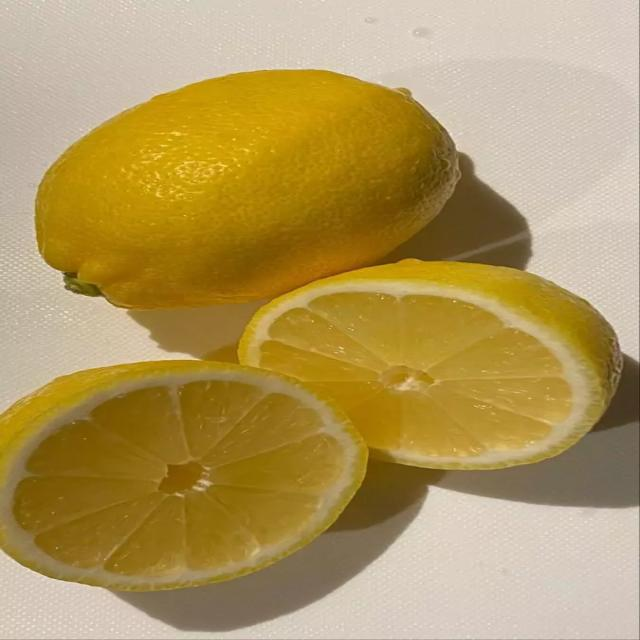lemon: (37, 70, 458, 308), (0, 361, 365, 589), (240, 261, 621, 468)
